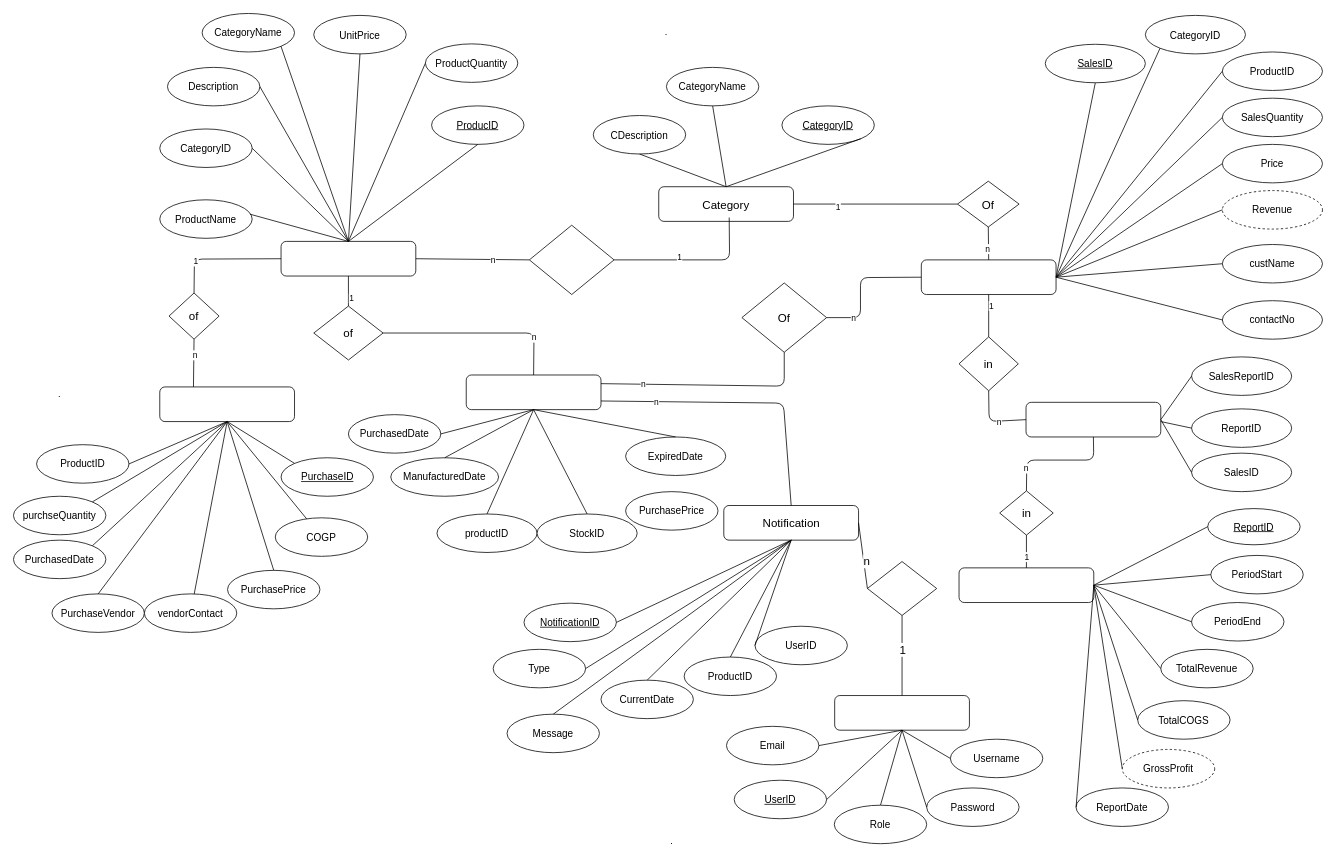
This 1336x866 diagram has some shape labels left out. Here are the shapes that lost their labels. From the top down, the centre of each, then its label:
At (348,258): "Product".
At (571,259): "contains".
At (988,277): "Sales".
At (227,404): "Purchase".
At (533,392): "Stock".
At (1093,419): "SalesReport".
At (902,588): "to".
At (1026,585): "Reports".
At (901,712): "User".
